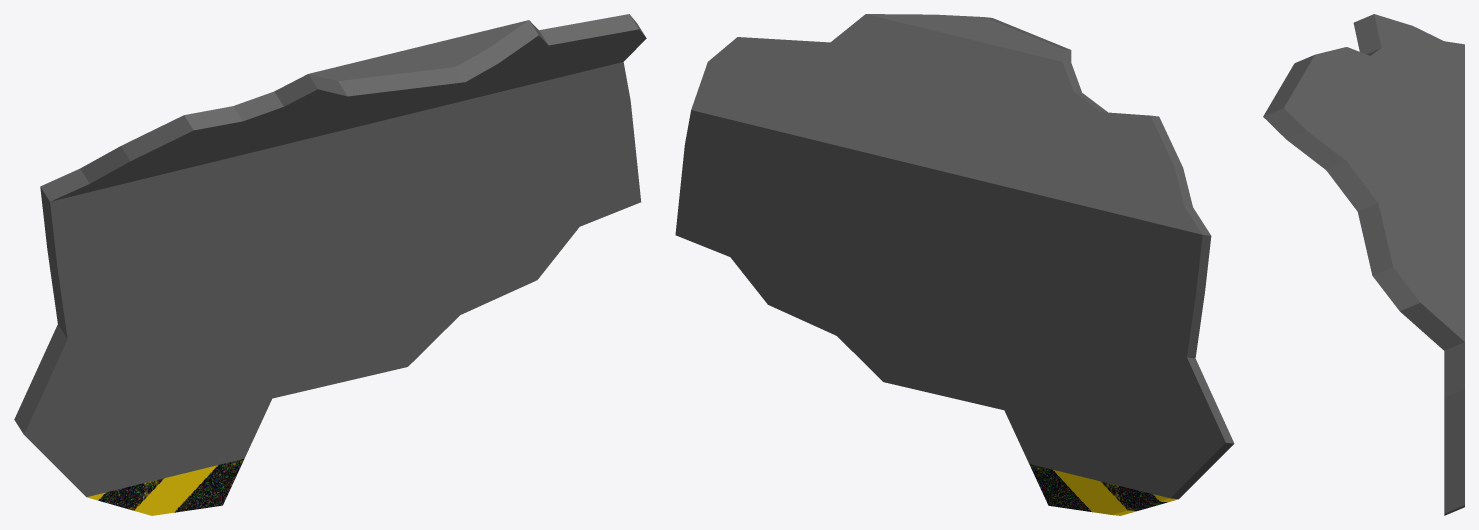
Rendered from cargoWreck02.fbx.
3 renders of one model, left to right at view 1: azimuth 30°, elevation 25°; view 2: azimuth 150°, elevation 25°; view 3: azimuth 270°, elevation 25°, orthographic. The views are drawn at different scales.
Visible parts, largest first — view 1: Cube.051; view 2: Cube.051; view 3: Cube.051.
Boxes of the visible parts, box(x1,y1,x2,y2) form: Cube.051: box(14, 14, 646, 515); Cube.051: box(675, 14, 1234, 515); Cube.051: box(1263, 14, 1464, 515).
Size of the model in its own units: 289 by 204 by 77.05.
